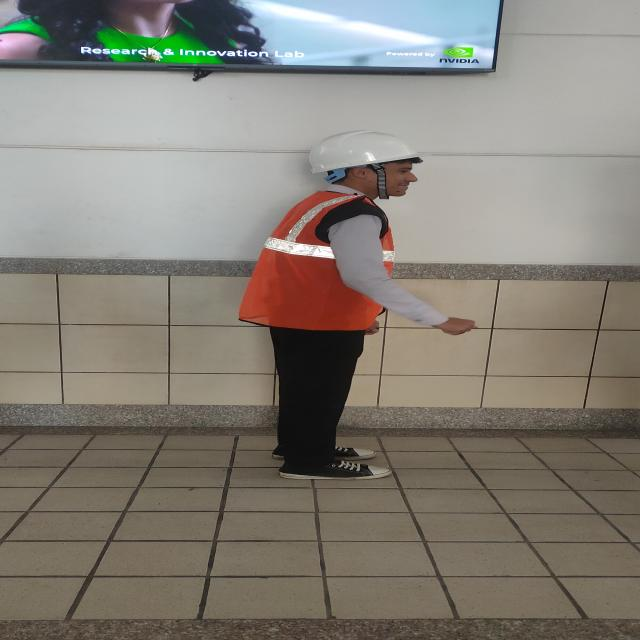safe: (238, 130, 430, 480)
